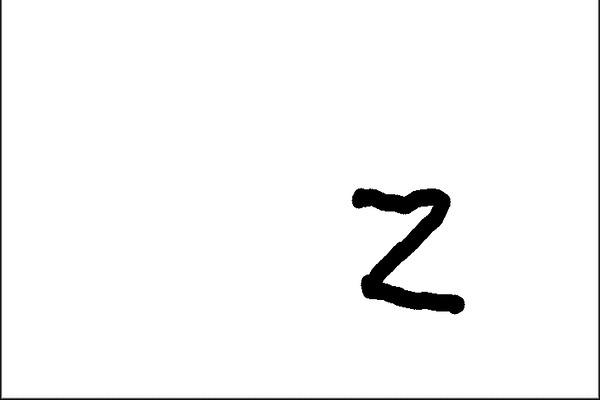Z: (342, 178, 482, 320)
